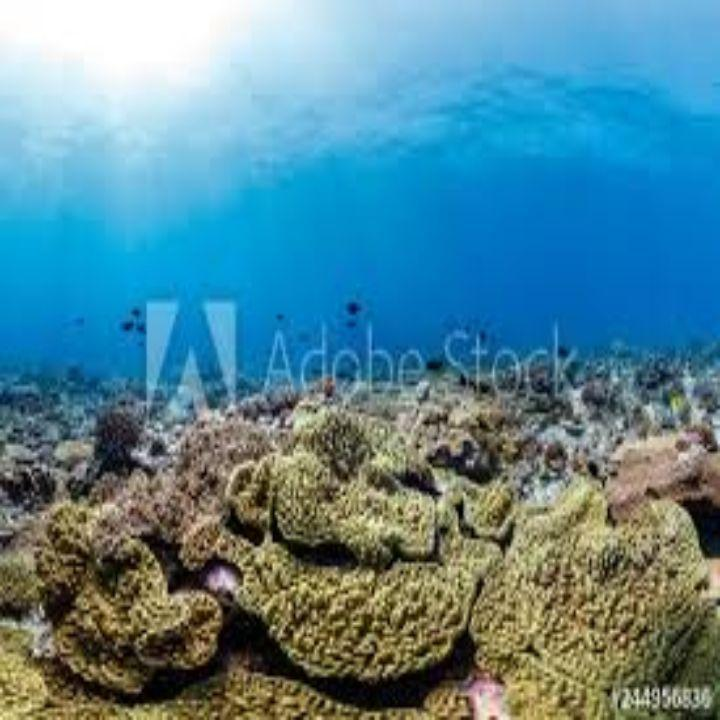Healthy Coral: (6, 435, 715, 677)
